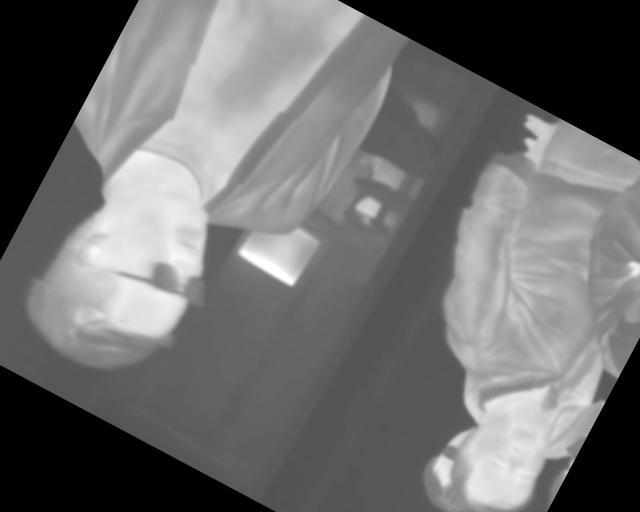face: (4, 152, 238, 402), (435, 385, 570, 512)
